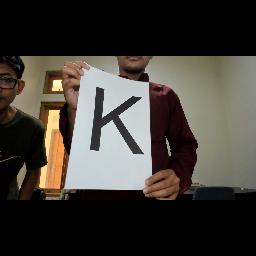k: (87, 82, 145, 162)
